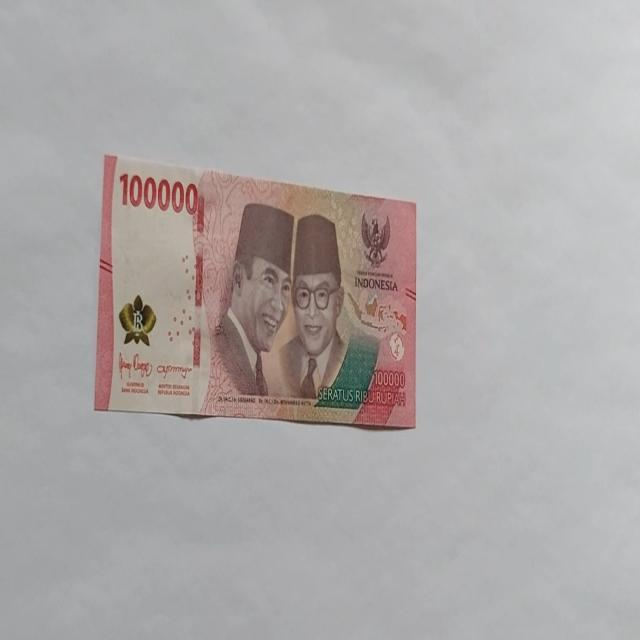seratus ribu rupiah: (94, 152, 418, 430)
